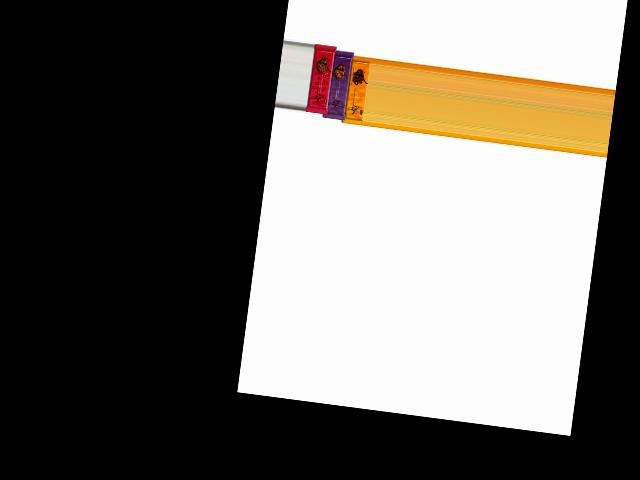chocolate: (304, 39, 336, 117)
